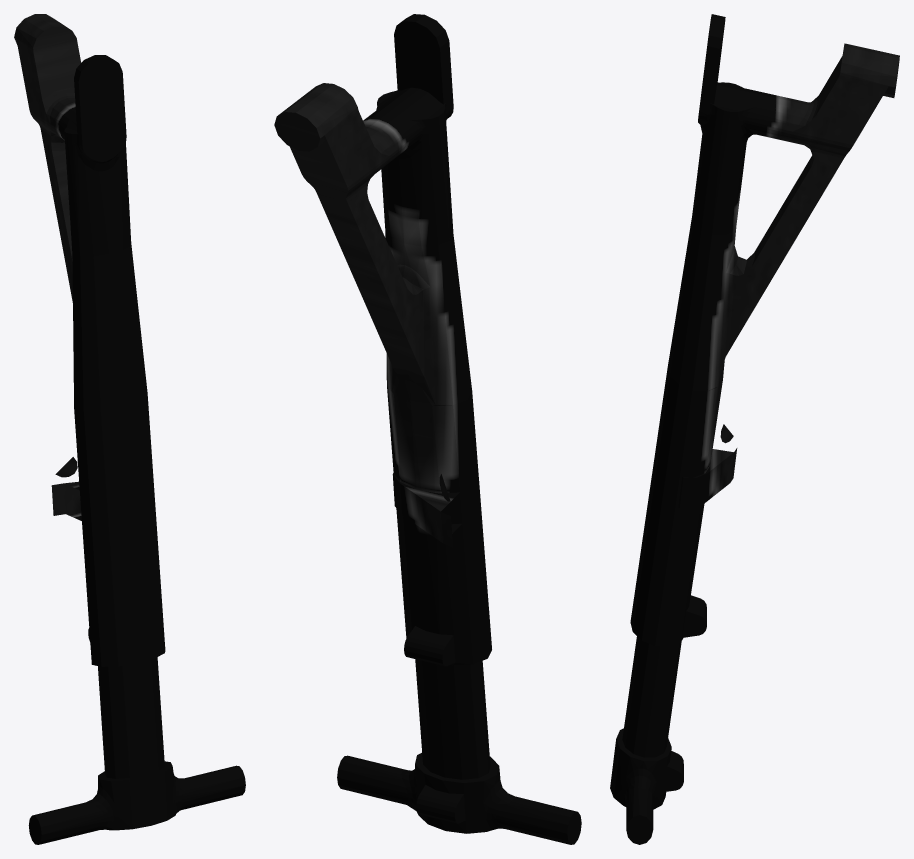
Rendered from erj195_gear_r.obj.
3 renders of one model, left to right at view 1: azimuth 30°, elevation 25°; view 2: azimuth 150°, elevation 25°; view 3: azimuth 270°, elevation 25°, orthographic. The views are drawn at different scales.
Size of the model in its own units: 0.5021 by 1.74 by 0.5878.
1 material, 1 textured.
